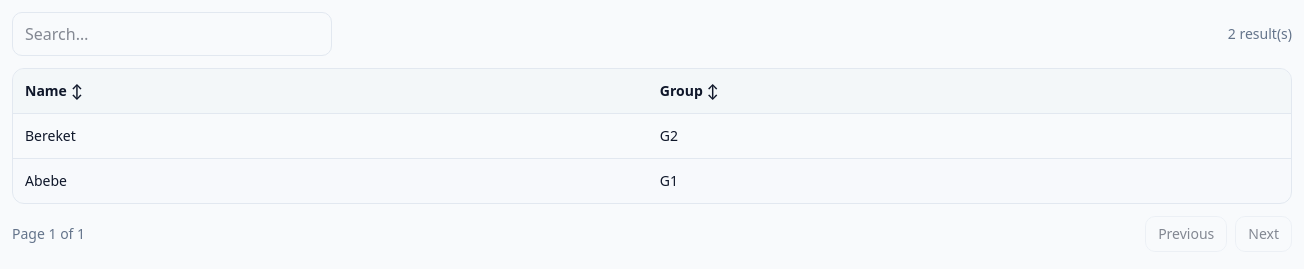
Test case: DataTable › renders rows, sorts, paginates and filters
Check: the text "Bereket" is shown, box [13,114,648,158]
Check: the text "Abebe" is shown, box [13,158,648,203]
Type "Abe" into the search field at {"x": 172, "y": 34}, box [12,12,332,56]
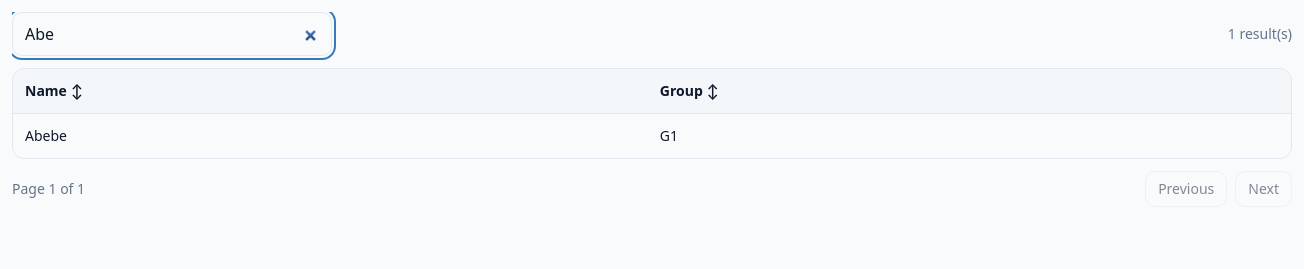
Check: the text "Abebe" is shown, box [13,114,648,158]
Check: the text "Bereket" is gone
